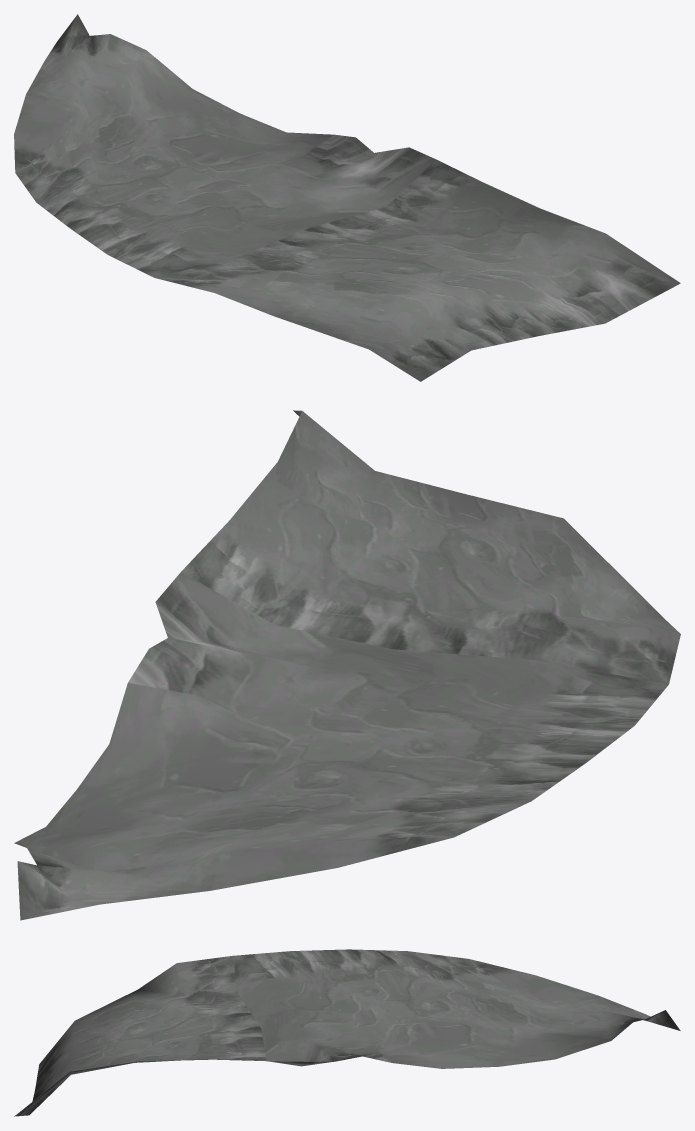
File: SWORDLIGHT20_PS-AREA03_138.fbx
3 views of the same model, one above another, from view 1: azimuth 30°, elevation 25°; view 2: azimuth 150°, elevation 25°; view 3: azimuth 270°, elevation 25° (orthographic). The views are drawn at different scales.
Parts seen in each view (by area): view 1: SWORDLIGHT20_PS-AREA03_138; view 2: SWORDLIGHT20_PS-AREA03_138; view 3: SWORDLIGHT20_PS-AREA03_138.
Part boxes in pixels (x1,y1,x2,y2): SWORDLIGHT20_PS-AREA03_138: [14, 14, 680, 381]; SWORDLIGHT20_PS-AREA03_138: [14, 410, 680, 920]; SWORDLIGHT20_PS-AREA03_138: [14, 949, 680, 1116].
Bounding box in the file's own units: 83441 × 18206 × 144201.
Materials: 3 (3 with a texture image).
